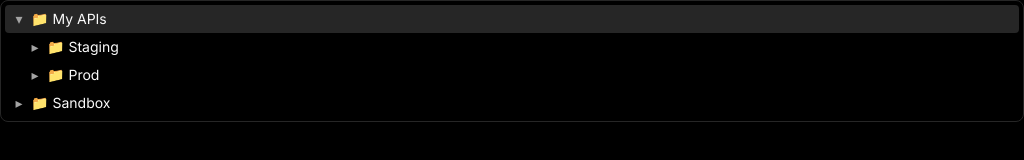
CollectionPicker › collapsing an expanded collection hides its folders
This screenshot has width=1024, height=160.
Expected: the text "Staging" is shown, [68,37,119,57]
Click the button named "collapse My APIs". click: (19, 19)
box: [11,9,27,29]
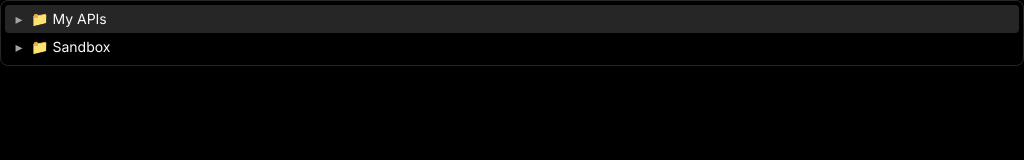
Now the text "Staging" is gone
Now the text "Prod" is gone
